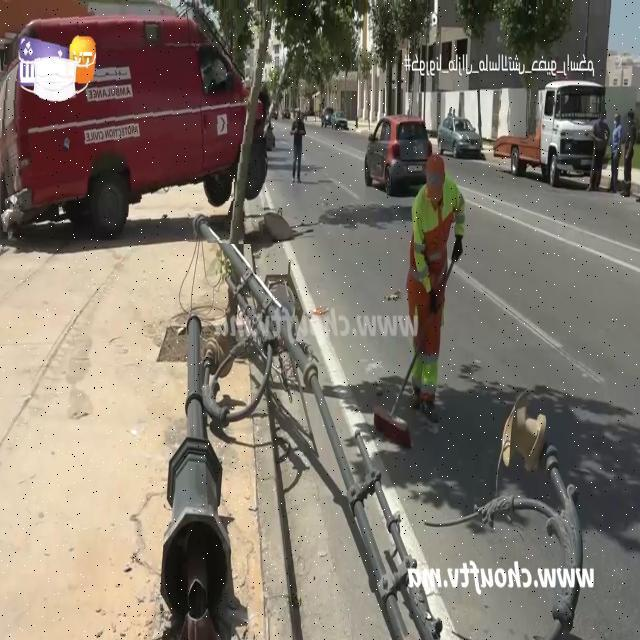ambulance: (0, 0, 271, 241)
